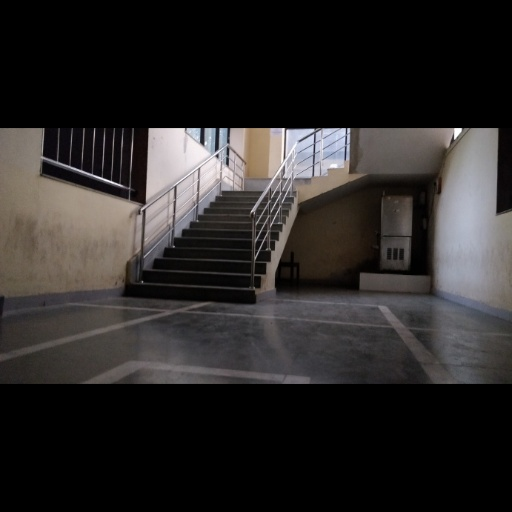Stairs: (141, 191, 261, 303)
